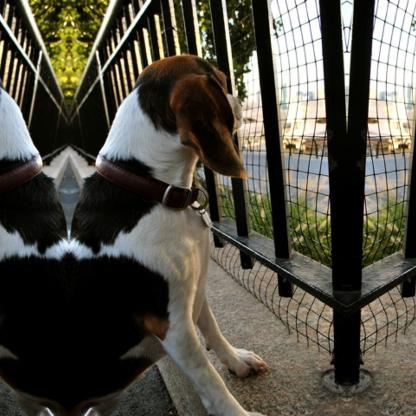Dog: (68, 51, 270, 415), (0, 51, 69, 416)
